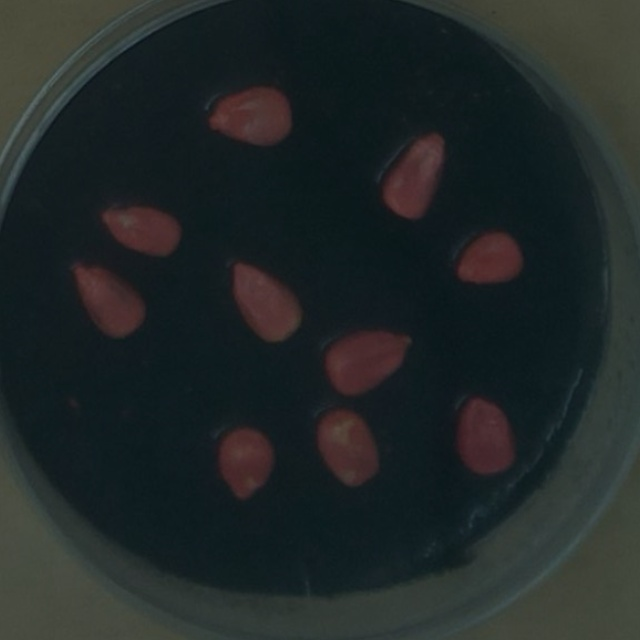Zea mays: (219, 250, 311, 352), (314, 320, 421, 404), (373, 125, 454, 229), (61, 255, 153, 346), (198, 80, 301, 157), (445, 386, 527, 482), (311, 401, 387, 498), (92, 195, 188, 266), (209, 416, 283, 508), (446, 222, 532, 291)
